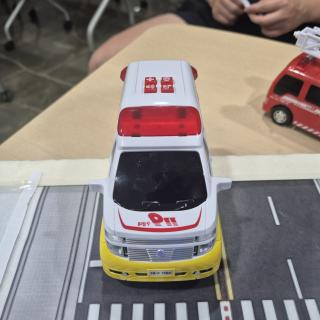Ambulance: (89, 61, 232, 281)
